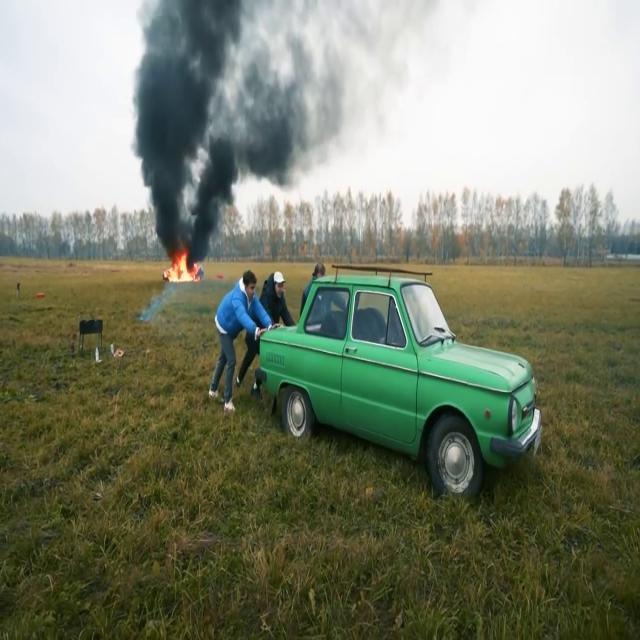Fire: (162, 247, 204, 290)
Smoke: (118, 3, 344, 242), (140, 280, 176, 324)
